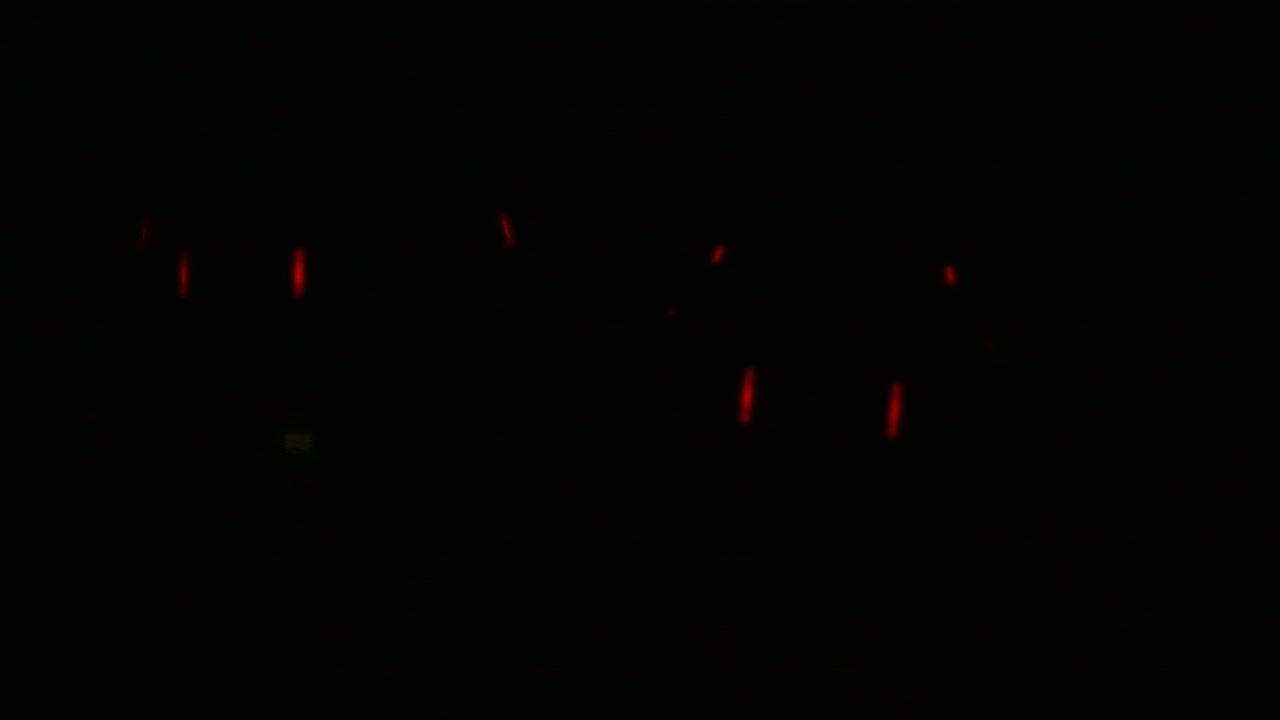pair1: (732, 355, 911, 444), (170, 232, 310, 307)
